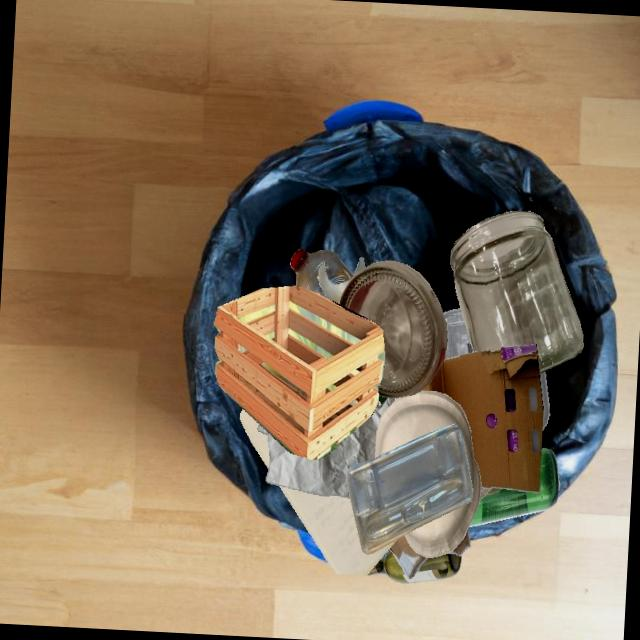cardboard: (419, 344, 544, 493), (389, 535, 428, 579), (447, 529, 470, 556)
combustible waste: (214, 286, 385, 460)
glass: (450, 211, 583, 374), (339, 260, 447, 398), (469, 448, 559, 527), (367, 549, 461, 583), (318, 257, 365, 304), (486, 488, 502, 495), (378, 395, 388, 405)
paper: (375, 391, 481, 557), (258, 401, 379, 496), (279, 486, 398, 576), (266, 409, 381, 498), (375, 397, 396, 416), (258, 424, 268, 435)
plastic: (346, 423, 473, 555), (290, 249, 354, 298), (443, 308, 473, 359), (539, 371, 549, 429), (479, 487, 491, 500)
